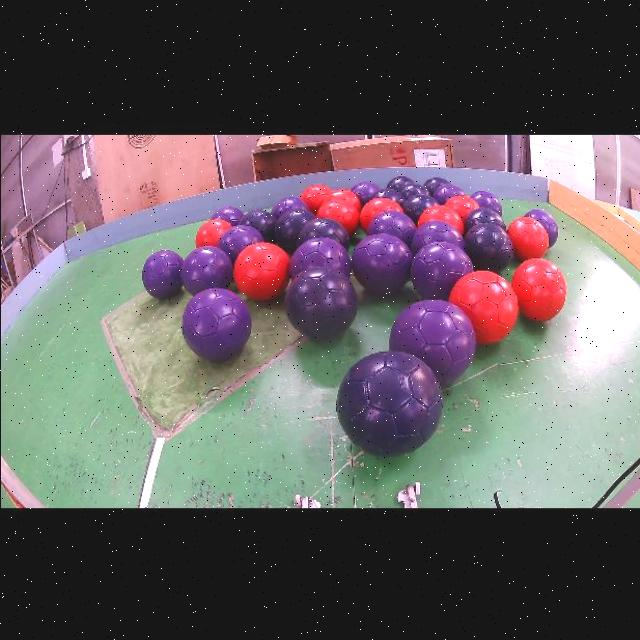B: (336, 351, 442, 456), (285, 266, 358, 339), (464, 222, 514, 273), (274, 208, 315, 254), (296, 217, 349, 251), (238, 208, 276, 243), (463, 207, 506, 233), (402, 194, 438, 224), (398, 182, 429, 199), (423, 177, 449, 194), (386, 176, 412, 190)
P: (389, 299, 476, 385), (181, 287, 250, 360), (351, 233, 412, 294), (411, 241, 474, 300), (180, 246, 232, 295), (289, 237, 351, 278), (141, 250, 183, 298), (410, 220, 466, 254), (216, 225, 263, 264), (366, 211, 416, 246), (525, 208, 558, 246), (271, 196, 309, 218), (470, 190, 502, 215), (350, 181, 380, 207), (433, 183, 464, 204), (210, 205, 242, 225)
R: (449, 270, 519, 344), (511, 257, 566, 321), (233, 242, 289, 300), (507, 216, 549, 260), (316, 198, 359, 236), (359, 196, 403, 231), (418, 204, 463, 234), (194, 218, 232, 246), (299, 183, 331, 213), (323, 189, 361, 213), (445, 195, 479, 220)
